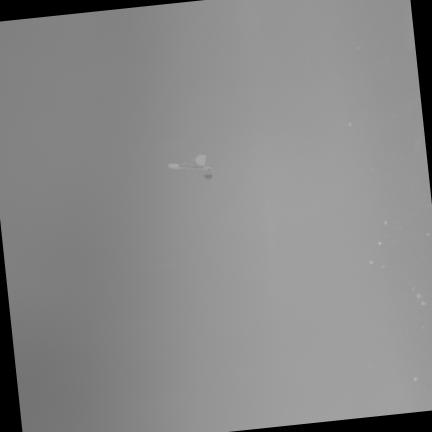Shahed: (167, 155, 213, 181)
